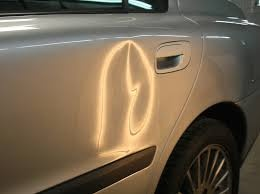Dent: (97, 39, 156, 150)
